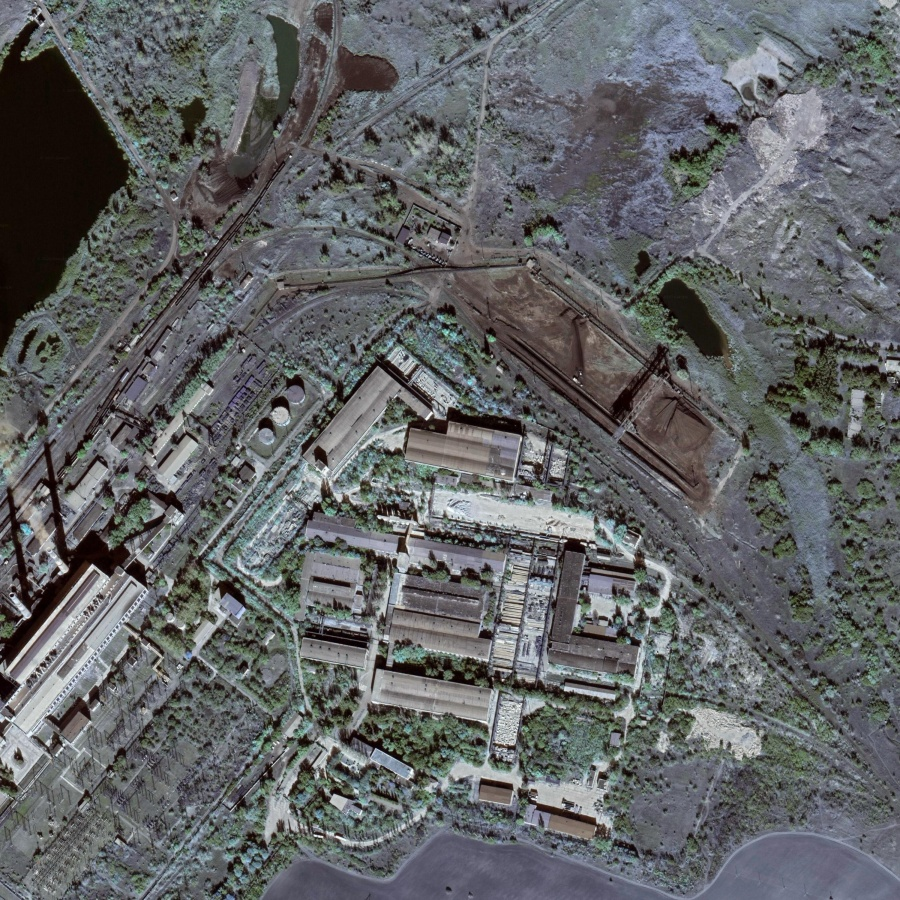PowerPlant: (429, 248, 719, 501)
